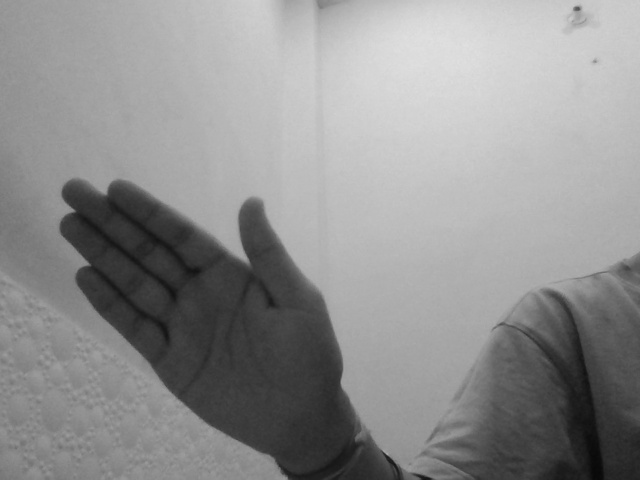Hello: (53, 167, 346, 463)
